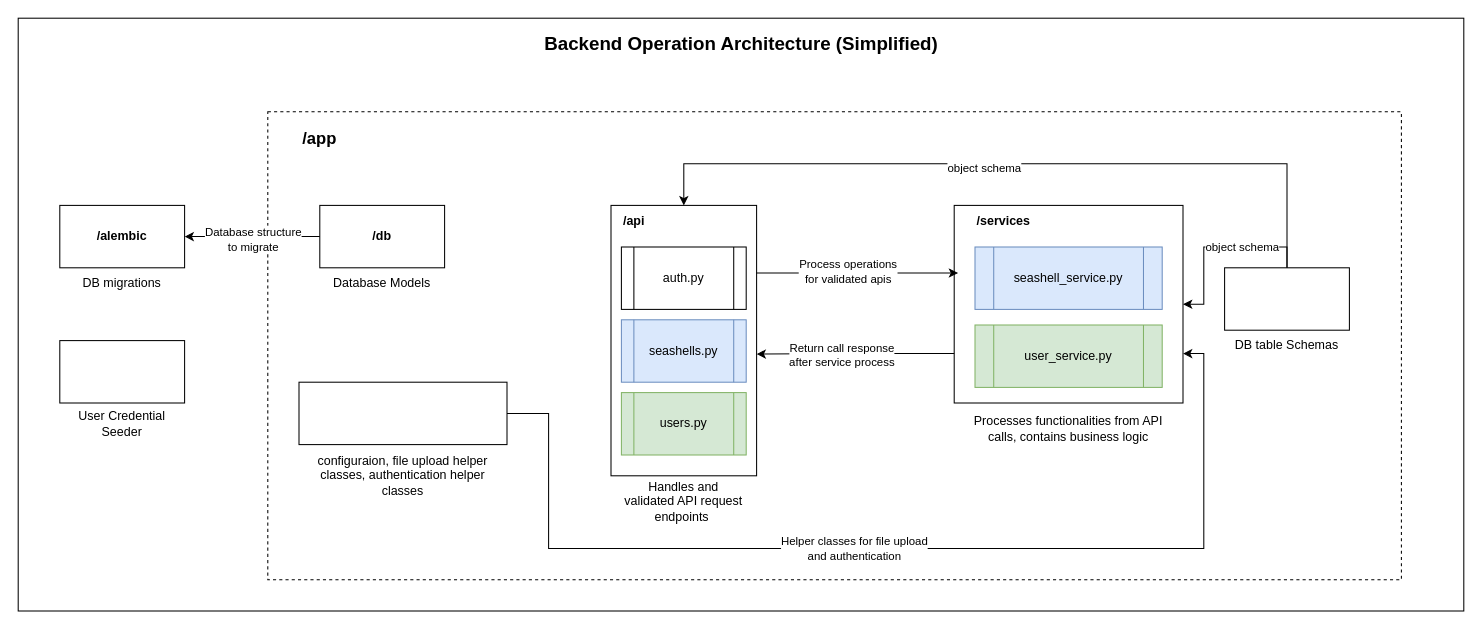
This 1482x629 diagram has some shape labels left out. Each missing label, with the centre of its shape:
/core: point 402,413
/schemas: point 1286,298
/scripts: point 122,371
